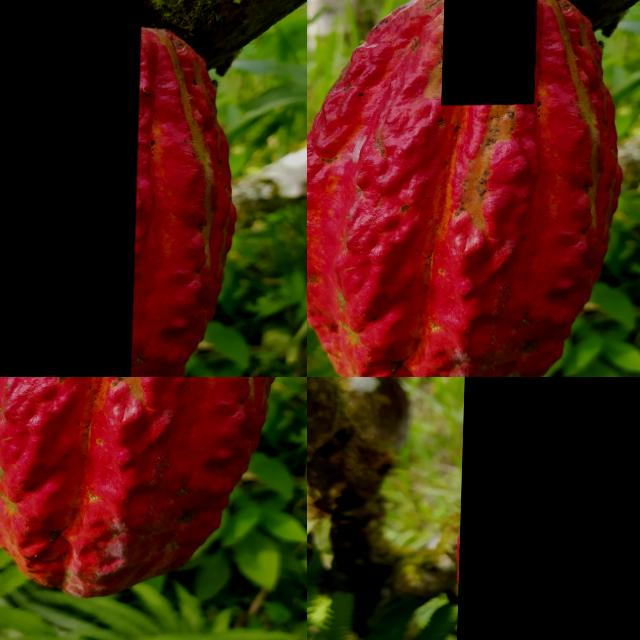Fitoftora: (443, 0, 541, 106)
Sana: (0, 0, 142, 377), (456, 377, 640, 640)
